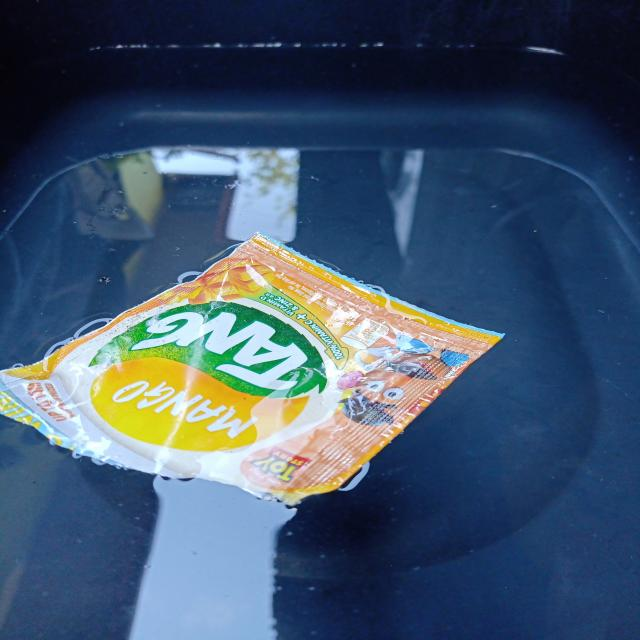Plastic Wrapper: (0, 233, 503, 505)
